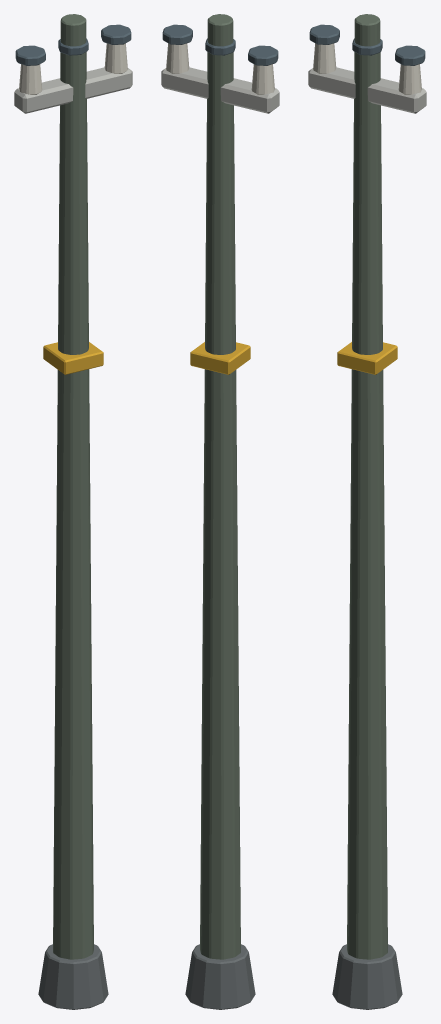
File: PRP_CITY_003_power_pole.glb
3 renders of one model, left to right at view 1: azimuth 30°, elevation 25°; view 2: azimuth 150°, elevation 25°; view 3: azimuth 330°, elevation 25°, orthographic.
Visible parts, largest first — view 1: PRP_CITY_003_power_pole_RenderMesh; view 2: PRP_CITY_003_power_pole_RenderMesh; view 3: PRP_CITY_003_power_pole_RenderMesh.
Boxes of the visible parts, <box> form: PRP_CITY_003_power_pole_RenderMesh: <box>14,14,132,1009</box>; PRP_CITY_003_power_pole_RenderMesh: <box>161,14,279,1009</box>; PRP_CITY_003_power_pole_RenderMesh: <box>308,14,426,1009</box>.
Bounding box in the file's own units: 0.7339 × 6.11 × 0.3977.
